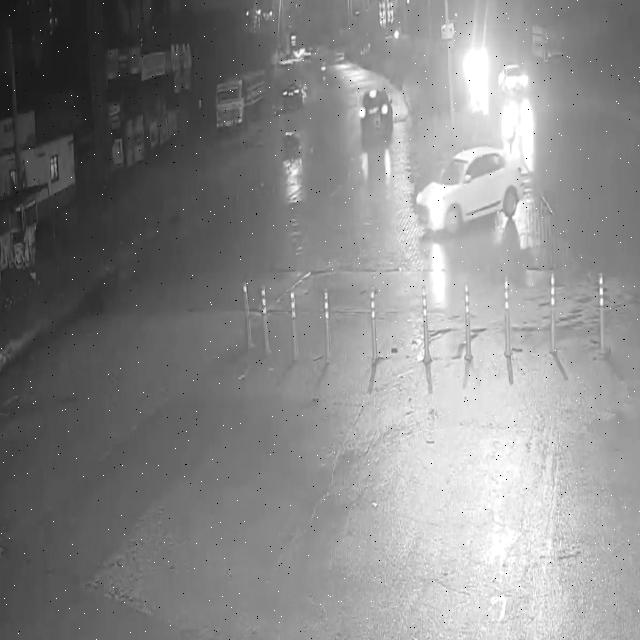accident: (278, 120, 305, 182)
